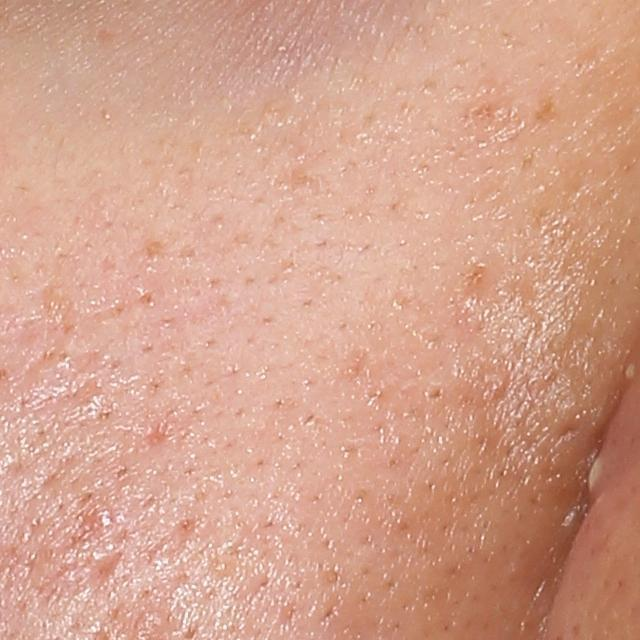comedo: (420, 380, 445, 405)
